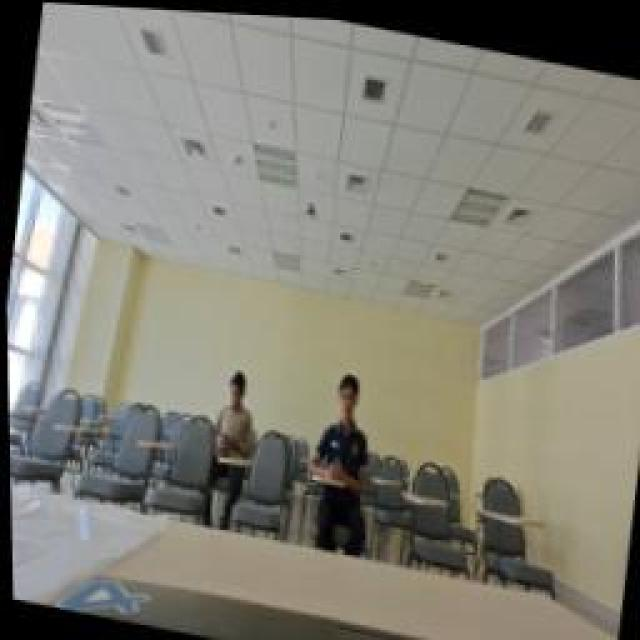phone: (205, 358, 260, 460)
study: (298, 353, 378, 485)
